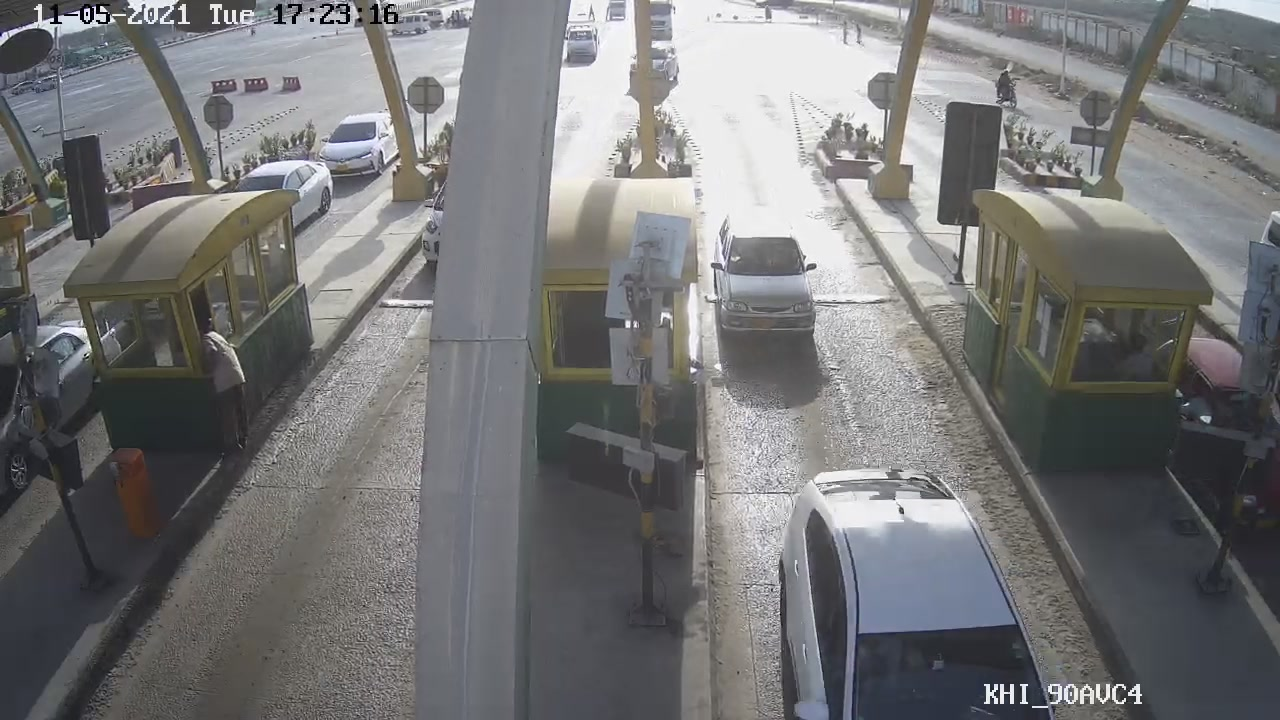F1: (712, 223, 829, 345)
